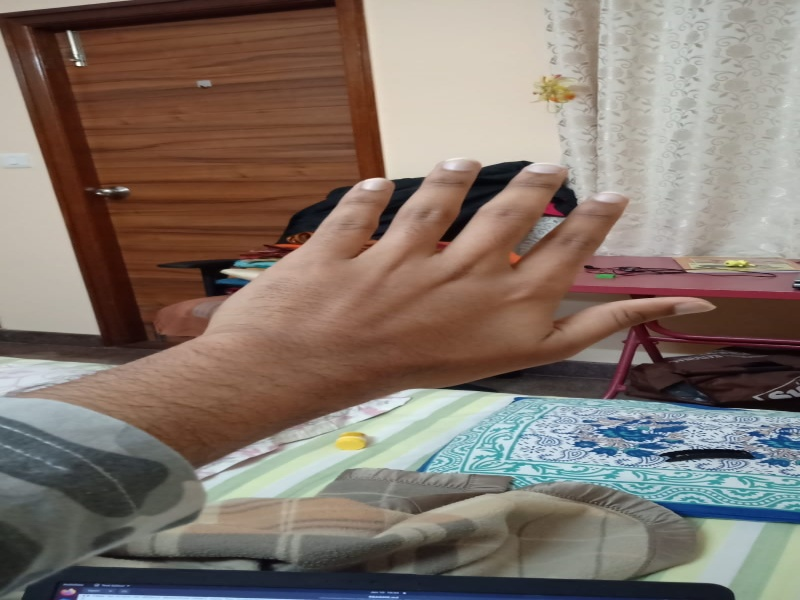Hand: (193, 152, 726, 404)
